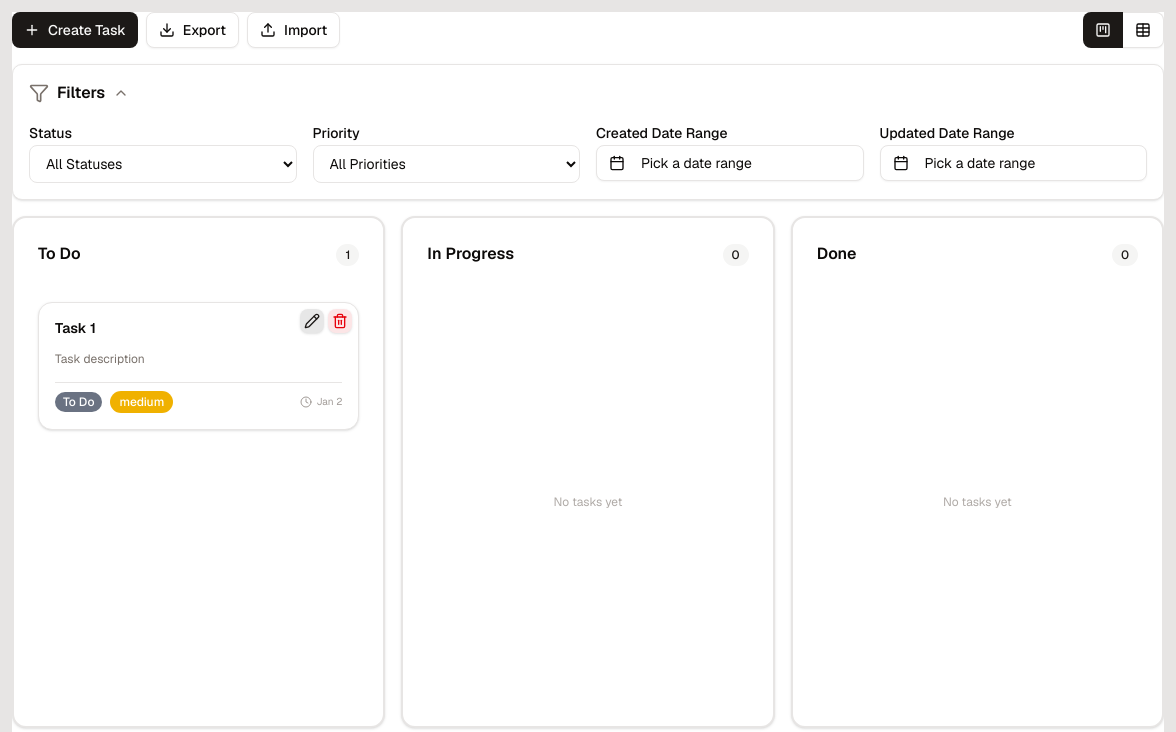
Test case: TaskList › displays clear filters button when filters are active
Select "To Do" in the dropdown labelled "Status" at (163, 164), box [29,145,296,183]
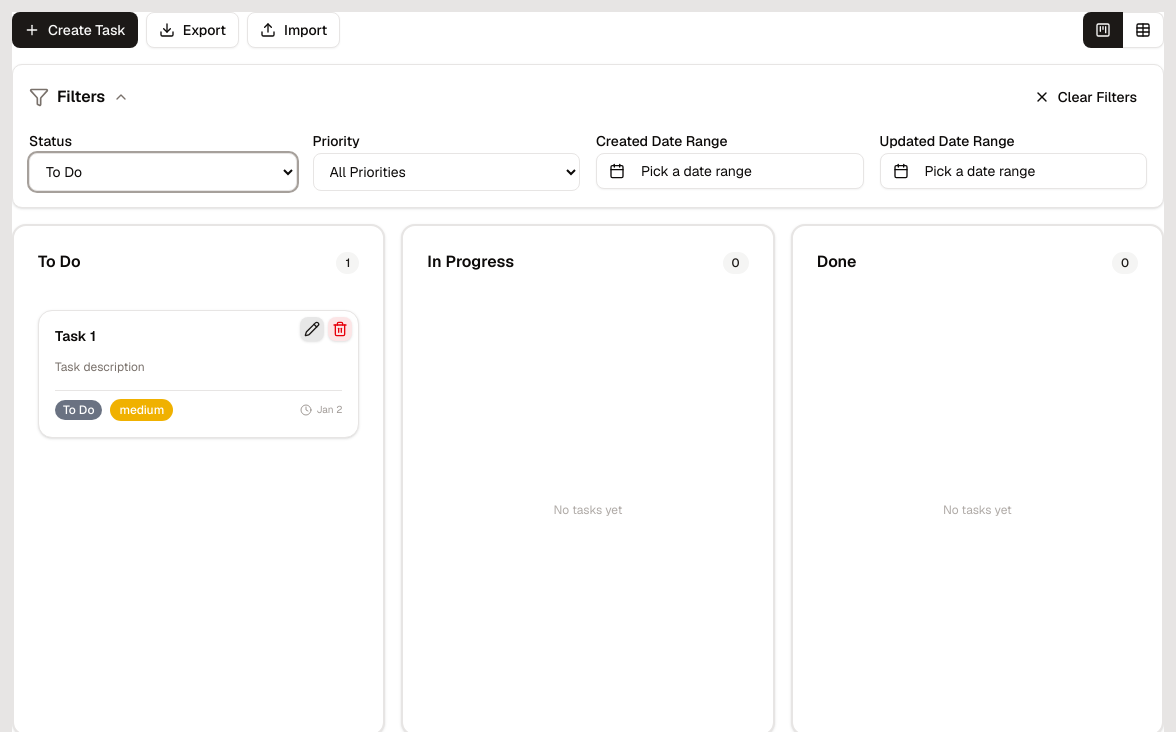
Now the button "Clear Filters" is shown, box [1024,81,1147,113]
